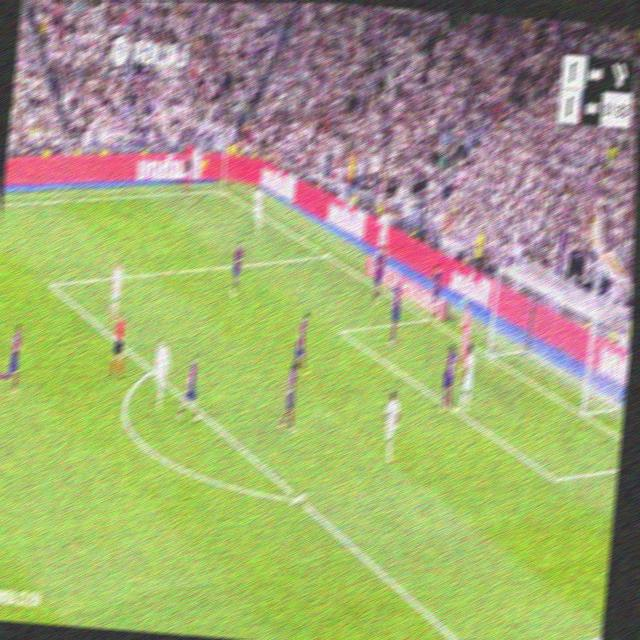bigarea_top_inner: (44, 272, 57, 295)
bigarea_top_outter: (319, 244, 331, 262)
bottom_arc_area_intersection: (288, 481, 306, 513)
corner: (216, 183, 227, 194)
smallarea_top_inner: (334, 319, 348, 342)
top_arc_area_intersection: (145, 361, 156, 380)
